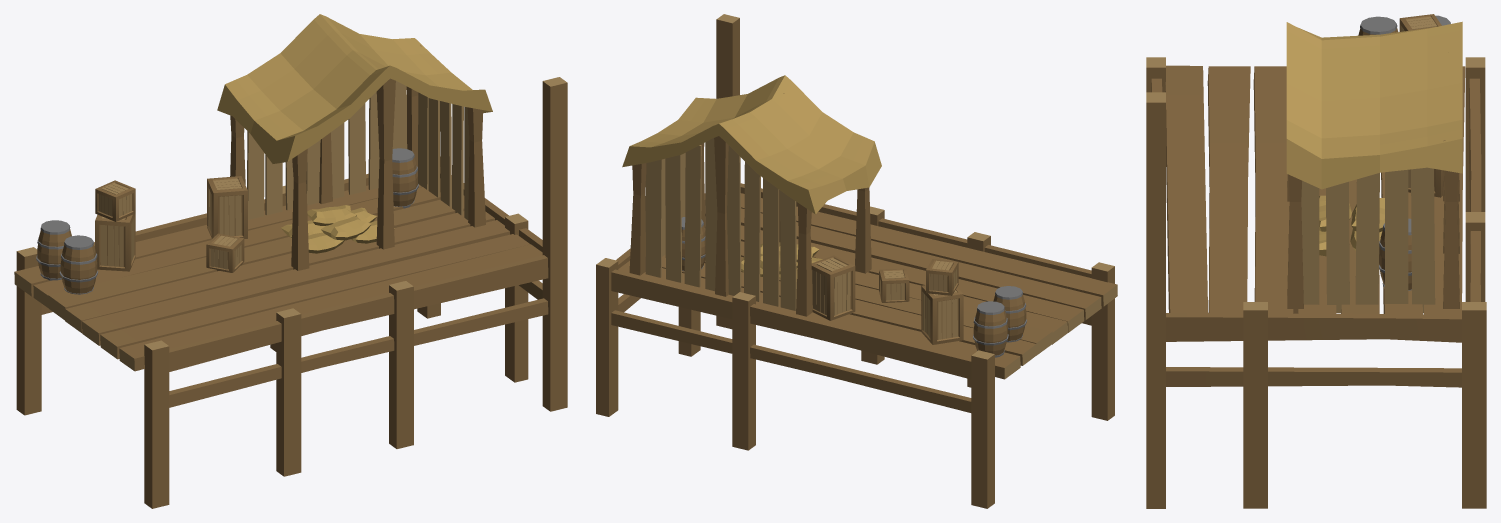
File: quaternius-ultimate-fantasy-rts-port-firstage-level-1.glb
3 renders of one model, left to right at view 1: azimuth 30°, elevation 25°; view 2: azimuth 150°, elevation 25°; view 3: azimuth 270°, elevation 25°, orthographic. The views are drawn at different scales.
Parts seen in each view (by area): view 1: Port_FirstAge_Level1; view 2: Port_FirstAge_Level1; view 3: Port_FirstAge_Level1.
Part boxes in pixels (bbox=[...]): Port_FirstAge_Level1: bbox=[14, 14, 567, 508]; Port_FirstAge_Level1: bbox=[596, 14, 1117, 508]; Port_FirstAge_Level1: bbox=[1146, 14, 1486, 508].
Bounding box in the file's own units: 1.31 × 0.9711 × 0.7243.
